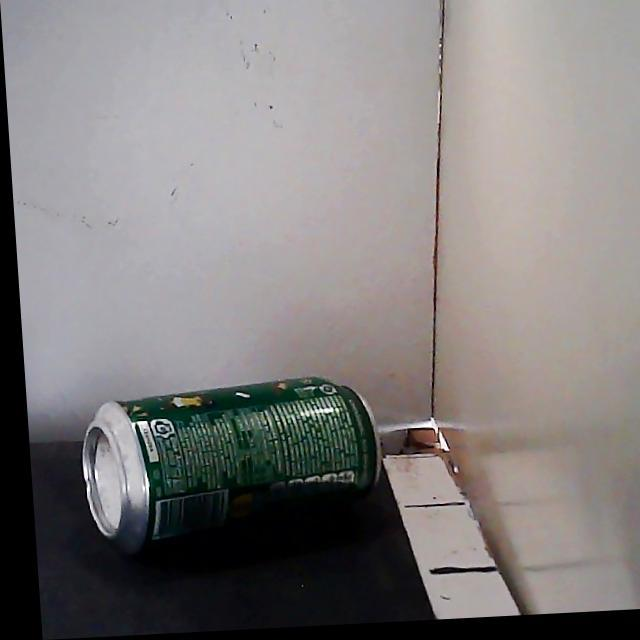metal: (82, 376, 381, 553)
